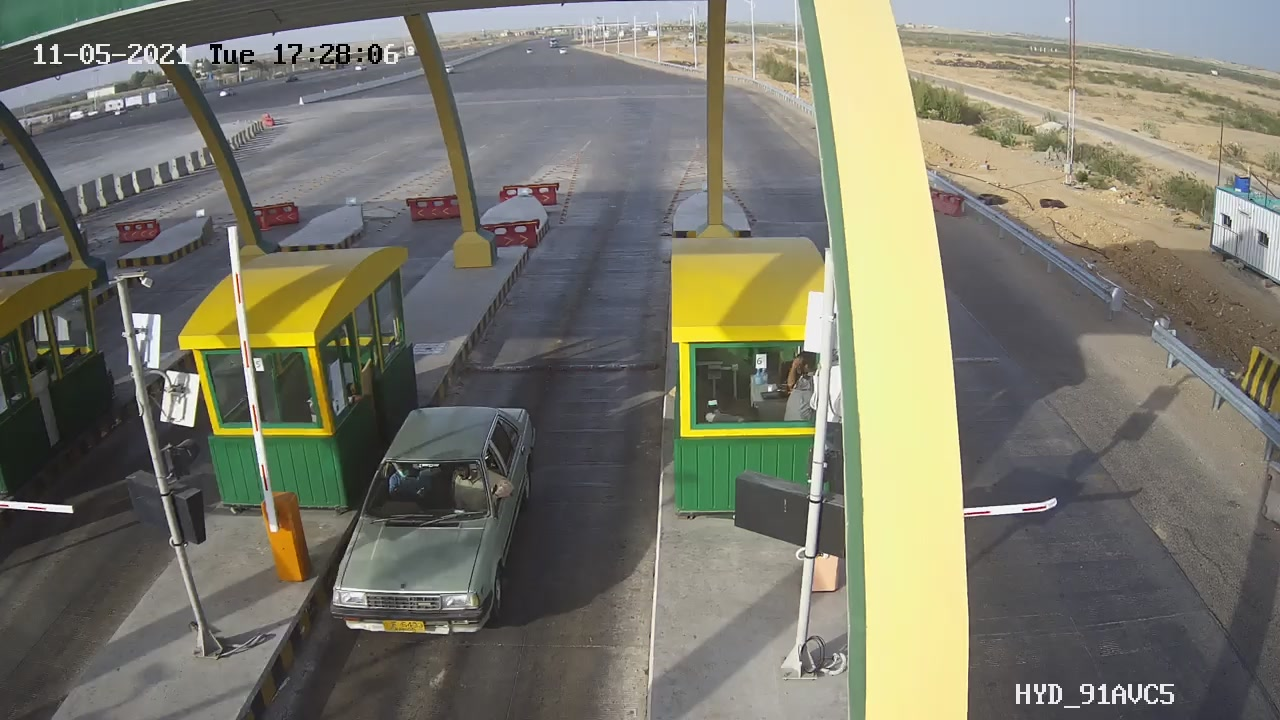F1: (317, 383, 553, 660)
